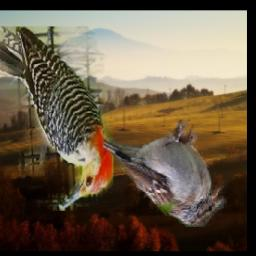Sparrow: (102, 120, 227, 227)
Woodpecker: (0, 26, 112, 211)
